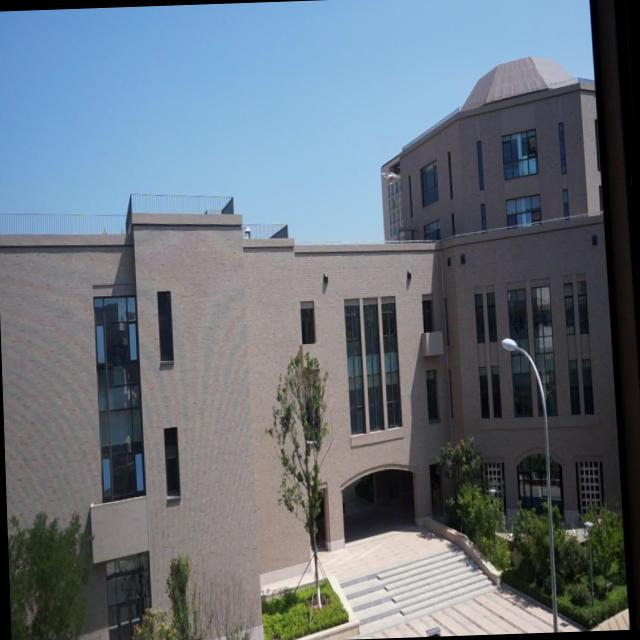drone: (379, 168, 402, 186)
